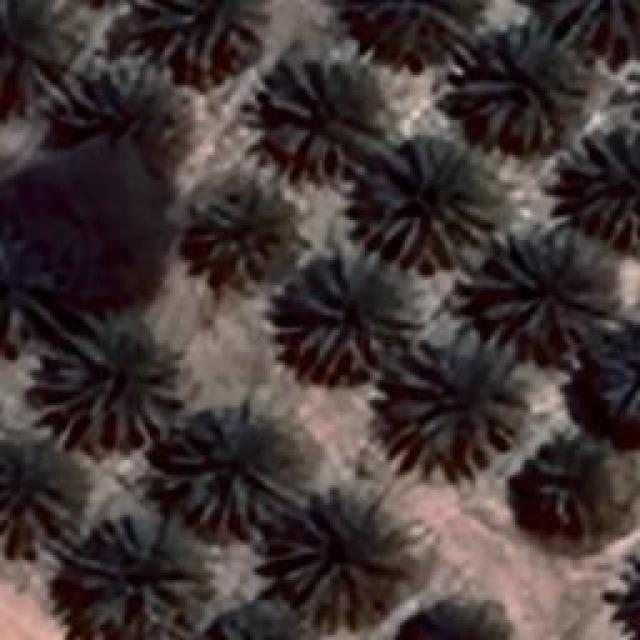PalmTree: (42, 56, 608, 192), (375, 328, 535, 480), (29, 312, 182, 452), (158, 407, 312, 535), (362, 135, 500, 270), (478, 225, 618, 348), (455, 22, 583, 150), (75, 512, 203, 638), (262, 60, 392, 178), (284, 508, 388, 614), (190, 182, 302, 278), (76, 60, 182, 155), (0, 435, 80, 555), (530, 422, 612, 536), (296, 265, 386, 365), (341, 0, 464, 68), (142, 0, 269, 62), (0, 225, 58, 336), (0, 224, 55, 336), (539, 0, 640, 51), (192, 599, 316, 640), (596, 324, 640, 429), (404, 599, 513, 640), (609, 545, 640, 640), (621, 546, 640, 640)
